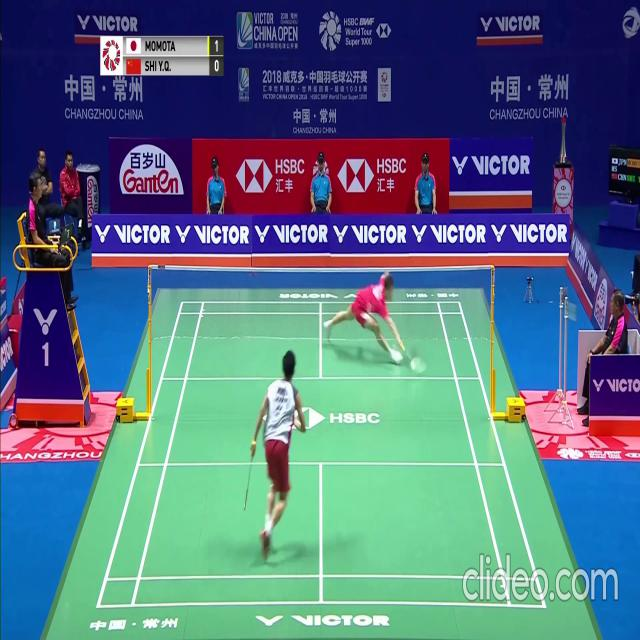Shuttlecock: (410, 361, 415, 368)
